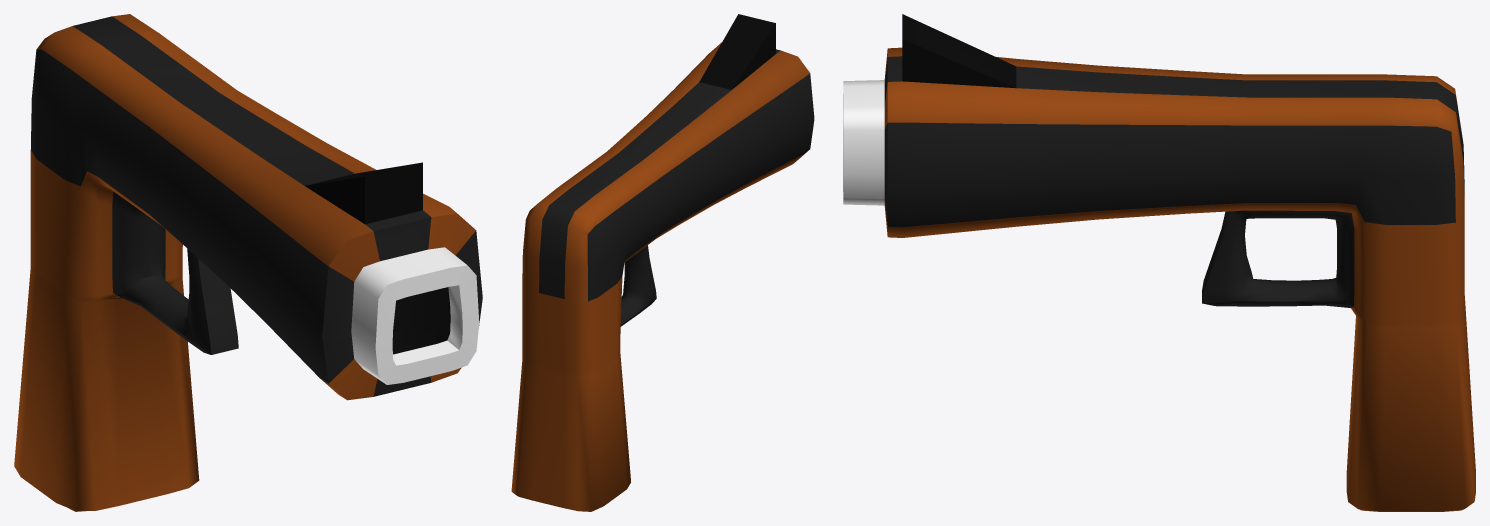
Rendered from gun_basic.fbx.
3 renders of one model, left to right at view 1: azimuth 30°, elevation 25°; view 2: azimuth 150°, elevation 25°; view 3: azimuth 270°, elevation 25°, orthographic. The views are drawn at different scales.
Visible parts, largest first — view 1: gun; view 2: gun; view 3: gun.
Boxes of the visible parts, x1,y1,x2,y2 form: gun: [14, 14, 482, 511]; gun: [511, 14, 814, 511]; gun: [843, 14, 1475, 511].
Bounding box in the file's own units: 42.3 × 129 × 162.
